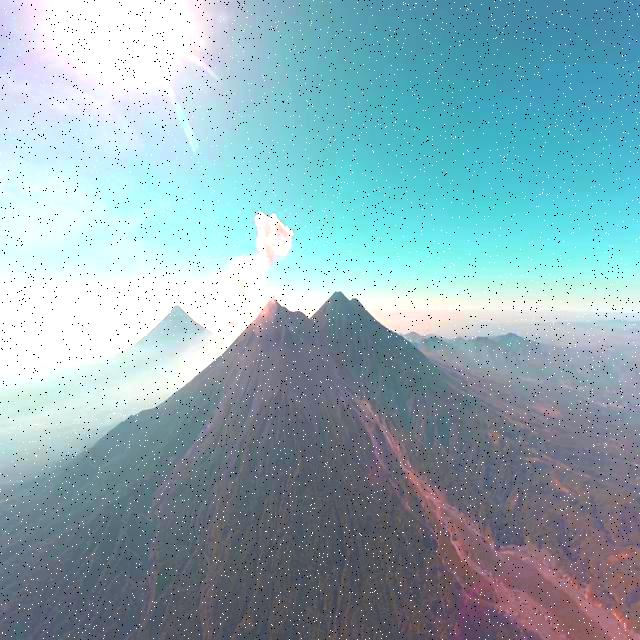Plume: (214, 208, 296, 297)
Summit: (252, 295, 290, 321)
